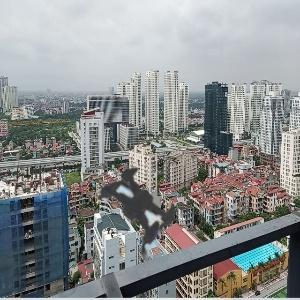drone: (44, 108, 232, 296)
